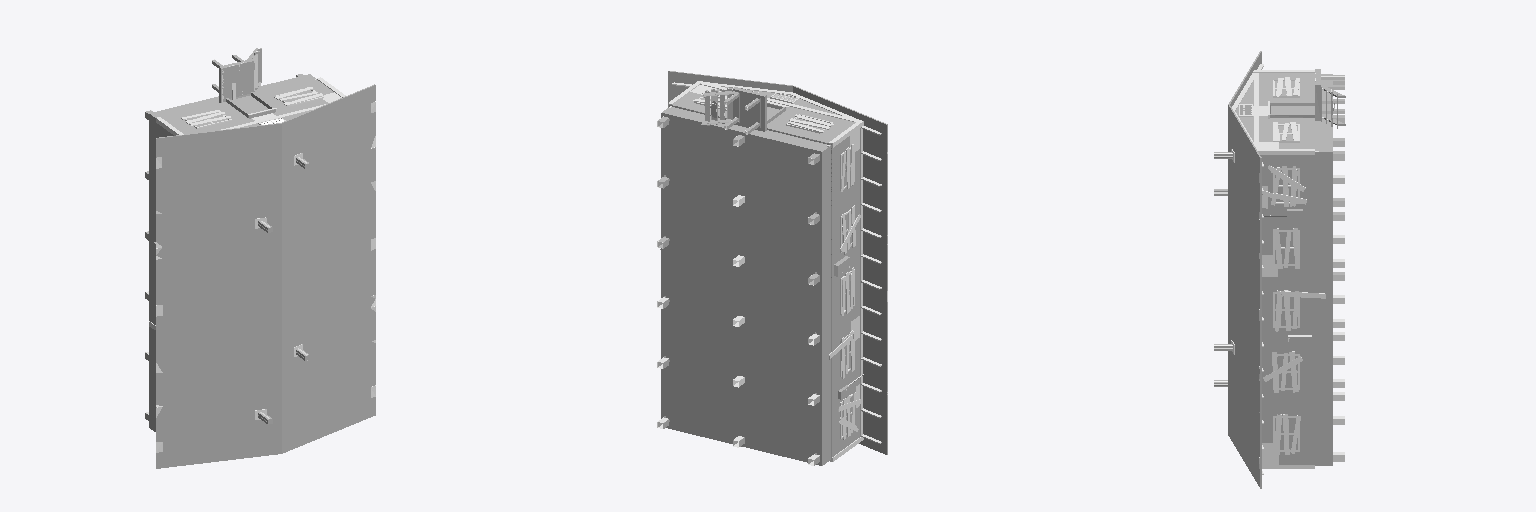
File: barracks01.obj
3 renders of one model, left to right at view 1: azimuth 30°, elevation 25°; view 2: azimuth 150°, elevation 25°; view 3: azimuth 270°, elevation 25°, orthographic.
Parts seen in each view (by area): view 1: collision, Barracks02:0, BarracksRoof:0; view 2: collision, Barracks02:0, BarracksDecal:0; view 3: collision, Barracks02:0, BarracksDecal:0.
Boxes of the visible parts, x1=… form: collision: x1=145, y1=48, x2=375, y2=468; Barracks02:0: x1=146, y1=51, x2=345, y2=414; BarracksRoof:0: x1=156, y1=101, x2=375, y2=452; collision: x1=658, y1=71, x2=887, y2=465; Barracks02:0: x1=657, y1=81, x2=881, y2=465; BarracksDecal:0: x1=690, y1=85, x2=859, y2=407; collision: x1=1214, y1=51, x2=1345, y2=488; Barracks02:0: x1=1232, y1=64, x2=1344, y2=474; BarracksDecal:0: x1=1252, y1=105, x2=1278, y2=464.
Bounding box in the file's own units: 889 × 1384 × 463.